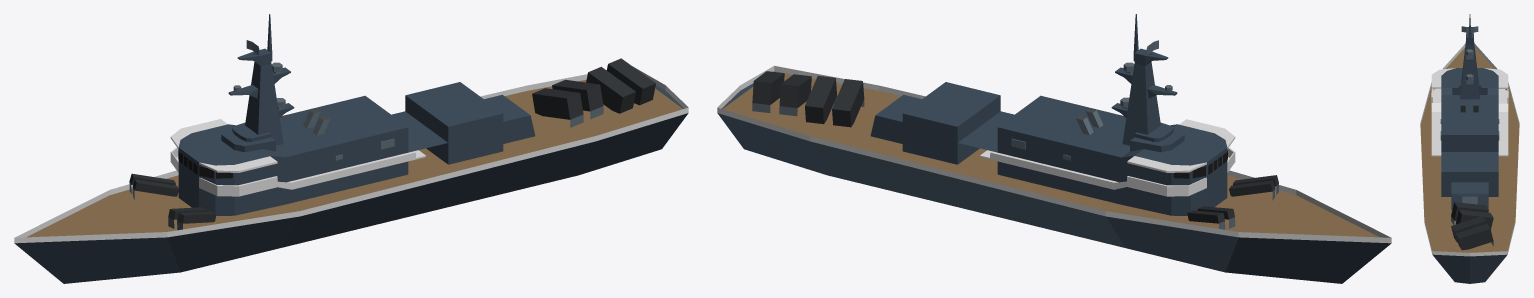
Rendered from ShipCruiser1.fbx.
3 renders of one model, left to right at view 1: azimuth 30°, elevation 25°; view 2: azimuth 150°, elevation 25°; view 3: azimuth 270°, elevation 25°, orthographic. The views are drawn at different scales.
Visible parts, largest first — view 1: Ship_Platform, Base_1, Base_2, barrier, RLS_Antena, Rocket, Rocket.001, Platform_1, Platform_2, Platform_1.001, Torped, Torped.001 (+2 smaller); view 2: Ship_Platform, Base_1, Base_2, barrier, RLS_Antena, Rocket, Platform_1, Rocket.001, Platform_2, Platform_1.001, Torped.001, Torped (+2 smaller); view 3: Ship_Platform, Base_1, Base_2, RLS_Antena, Platform_2, Rocket.001, barrier, Platform_1, Rocket, Platform_1.001, pipe, Antena_2 (+1 smaller).
Boxes of the visible parts, left/top/right/bottom form: Ship_Platform: left=14, top=79, right=688, bottom=283; Base_1: left=178, top=95, right=408, bottom=215; Base_2: left=405, top=82, right=535, bottom=164; barrier: left=14, top=66, right=688, bottom=243; RLS_Antena: left=221, top=14, right=294, bottom=152; Rocket: left=532, top=79, right=603, bottom=127; Rocket.001: left=586, top=58, right=655, bottom=113; Platform_1: left=170, top=119, right=277, bottom=196; Platform_2: left=277, top=150, right=425, bottom=189; Platform_1.001: left=391, top=111, right=447, bottom=152; Torped: left=129, top=173, right=178, bottom=199; Torped.001: left=168, top=207, right=216, bottom=230; Ship_Platform: left=717, top=71, right=1391, bottom=283; Base_1: left=997, top=95, right=1227, bottom=215; Base_2: left=870, top=82, right=1000, bottom=164; barrier: left=717, top=65, right=1391, bottom=243; RLS_Antena: left=1111, top=14, right=1184, bottom=152; Rocket: left=805, top=76, right=864, bottom=127; Platform_1: left=1127, top=119, right=1235, bottom=196; Rocket.001: left=752, top=71, right=811, bottom=116; Platform_2: left=980, top=150, right=1126, bottom=189; Platform_1.001: left=958, top=111, right=1014, bottom=152; Torped.001: left=1229, top=175, right=1278, bottom=200; Torped: left=1187, top=206, right=1235, bottom=229; Ship_Platform: left=1420, top=48, right=1519, bottom=283; Base_1: left=1441, top=68, right=1498, bottom=151; Base_2: left=1441, top=154, right=1498, bottom=209; RLS_Antena: left=1452, top=14, right=1487, bottom=99; Platform_2: left=1431, top=102, right=1508, bottom=156; Rocket.001: left=1451, top=216, right=1493, bottom=250; barrier: left=1420, top=43, right=1519, bottom=256; Platform_1: left=1431, top=68, right=1508, bottom=103; Rocket: left=1451, top=202, right=1493, bottom=229; Platform_1.001: left=1441, top=152, right=1498, bottom=154; pipe: left=1460, top=103, right=1478, bottom=112; Antena_2: left=1466, top=49, right=1473, bottom=81.
Bounding box in the file's own units: 2182 × 703 × 435.
